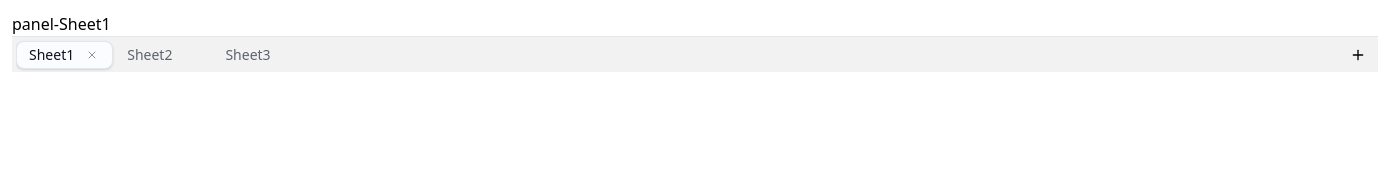
Test: <DynamicTab /> › enters rename mode on double-click and commits with Enter
The width and height of the screenshot is (1378, 172).
Double-click the tab "Sheet1": (65, 54) [16,40,113,68]
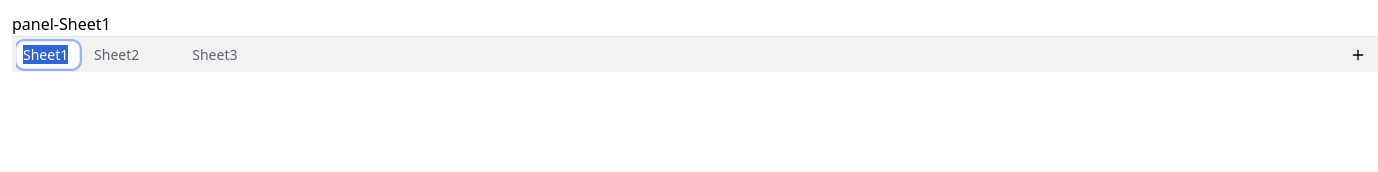
Clear the field showing "Sheet1": (48, 54) [16,40,80,68]
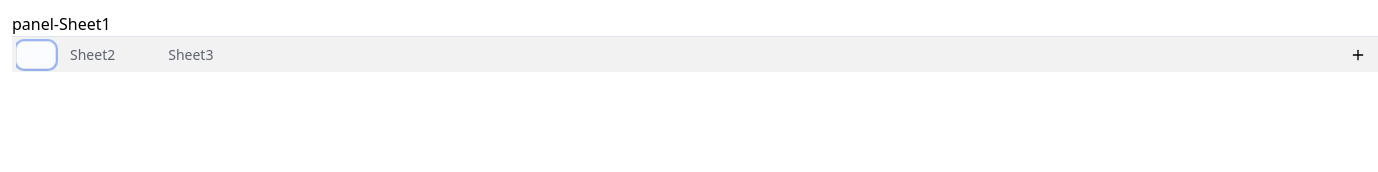
In the field showing "Sheet1": (36, 54) [16,40,56,68], type "Budget"
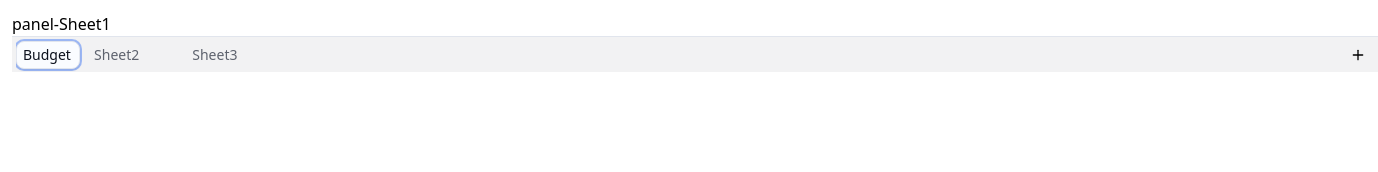
Press Enter
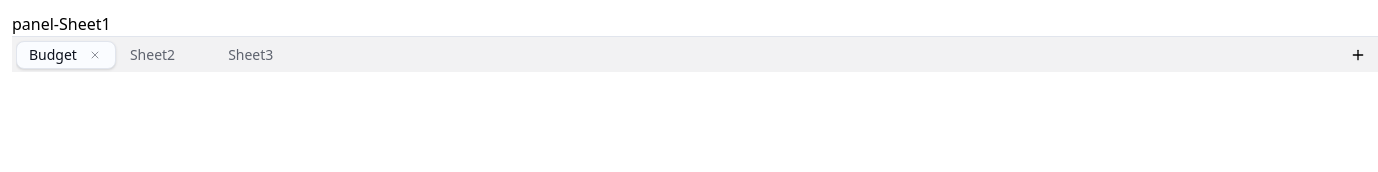
Check: the tab "Budget" is shown, box [16,40,116,68]
